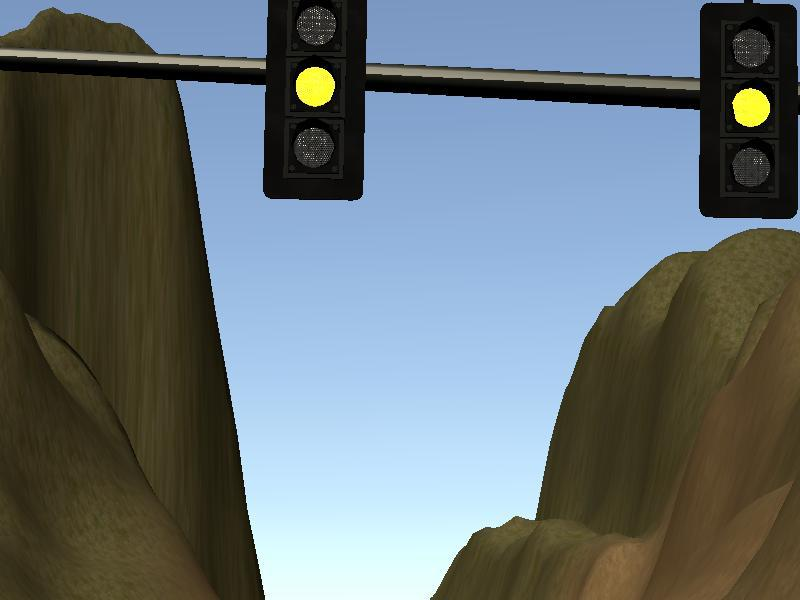Yellow: (264, 1, 366, 196), (702, 6, 795, 213)
